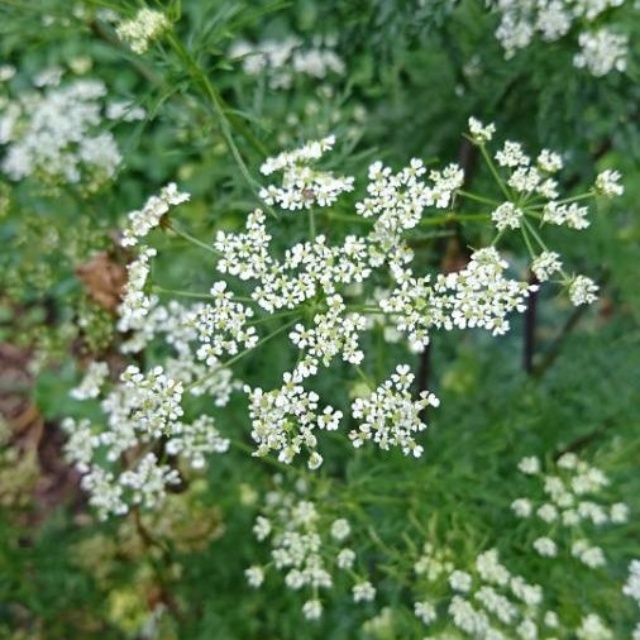obstacle: (65, 128, 553, 521)
